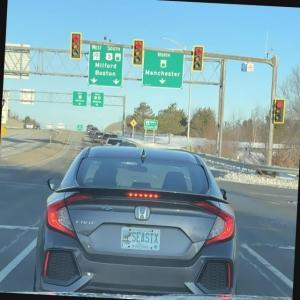Plate: (120, 227, 160, 251)
